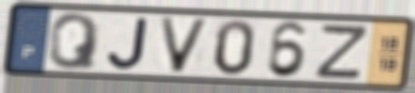0: (213, 17, 259, 78)
6: (265, 19, 310, 81)
J: (105, 15, 151, 71)
Q: (46, 12, 103, 72)
V: (157, 15, 213, 75)
Z: (311, 24, 372, 82)
